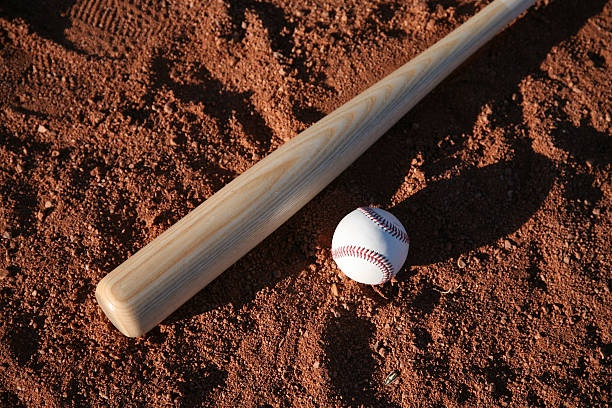bita: (106, 7, 500, 336)
